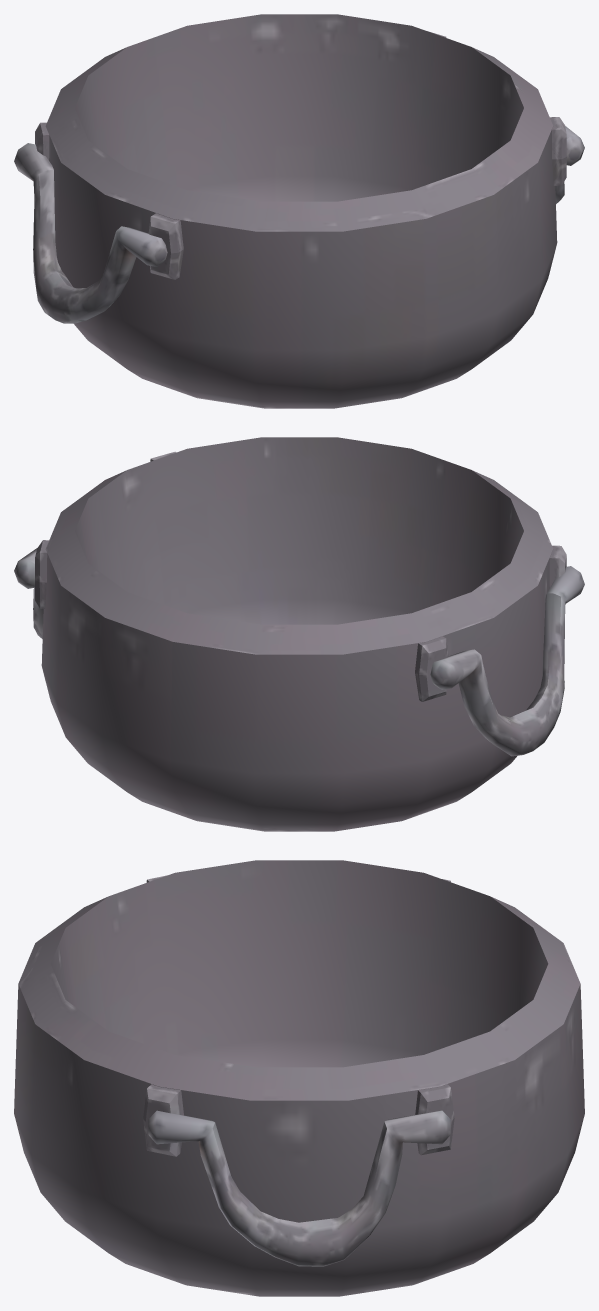
Rendered from pot-1.glb.
3 views of the same model, one above another, from view 1: azimuth 30°, elevation 25°; view 2: azimuth 150°, elevation 25°; view 3: azimuth 270°, elevation 25° (orthographic). The views are drawn at different scales.
Parts seen in each view (by area): view 1: Pot_1; view 2: Pot_1; view 3: Pot_1.
Part boxes in pixels (box(x1,y1,x2,y2)): Pot_1: box(14, 14, 584, 408); Pot_1: box(14, 437, 584, 831); Pot_1: box(14, 860, 584, 1296).
Bounding box in the file's own units: 0.5393 × 0.2238 × 0.486.
Materials: 1 (1 with a texture image).
